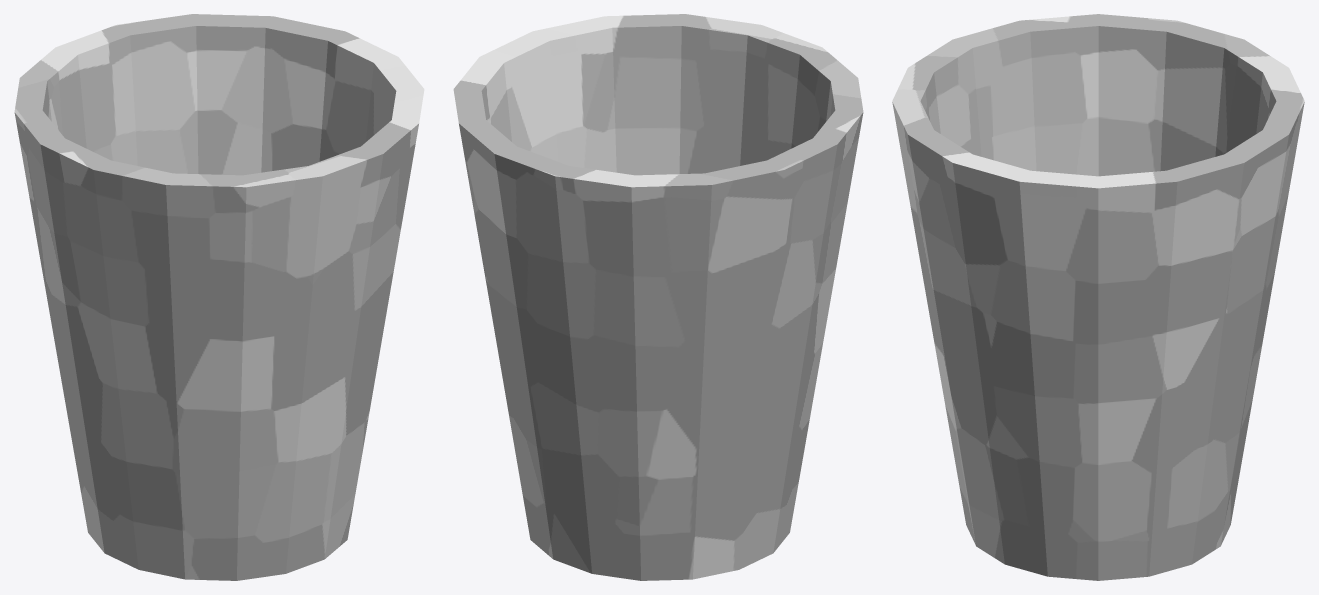
The model's file is glass.fbx.
3 views of the same model, side by side, from view 1: azimuth 30°, elevation 25°; view 2: azimuth 150°, elevation 25°; view 3: azimuth 270°, elevation 25° (orthographic).
Visible parts, largest first — view 1: glass; view 2: glass; view 3: glass.
Part boxes in pixels (x1,y1,x2,y2): glass: (14, 14, 424, 580); glass: (453, 14, 863, 580); glass: (892, 14, 1304, 580).
Bounding box in the file's own units: 176 × 200 × 176.
1 material, 1 textured.
